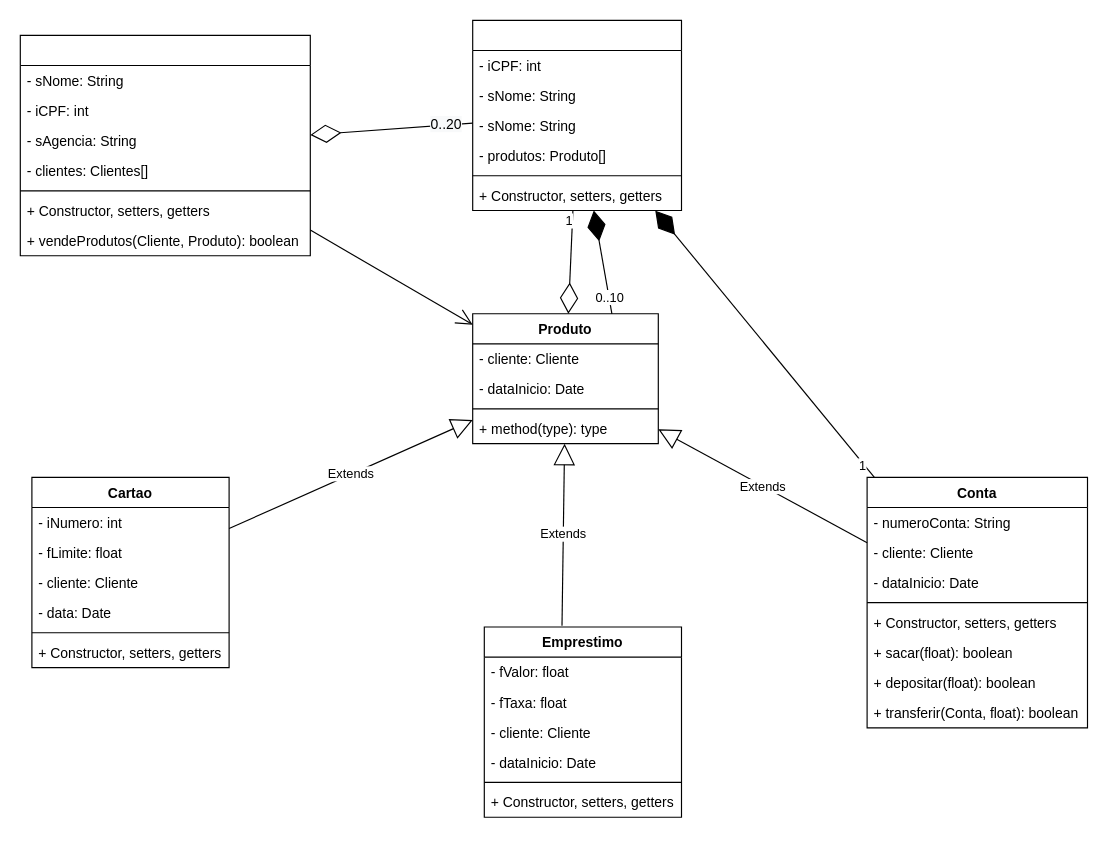
Some shapes in this 1108 by 841 pixel diagram are drawn without their labels. The box of each missing label's shape, as (x1, y1, x2, y2) in pixels:
Cliente: (472, 19, 682, 211)
Gerente: (19, 34, 310, 256)
